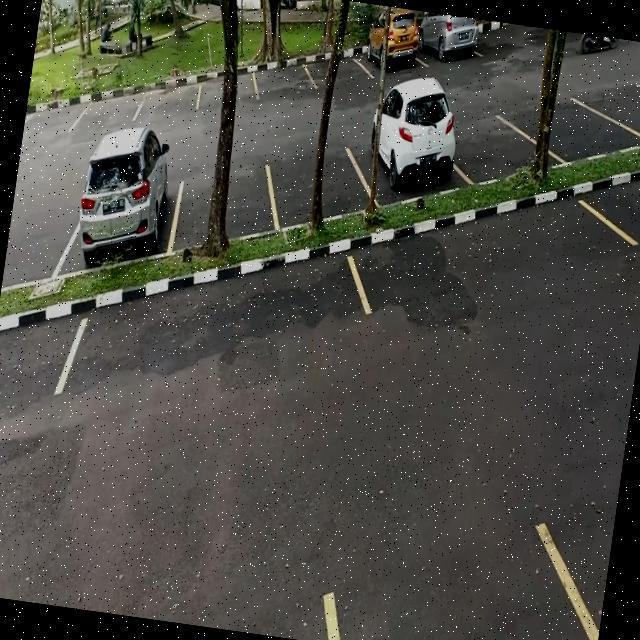empty: (172, 150, 278, 250), (268, 132, 370, 228), (461, 103, 542, 194), (2, 200, 76, 294), (547, 96, 626, 171), (134, 74, 202, 128), (197, 60, 260, 116), (78, 84, 144, 136), (255, 50, 314, 106), (309, 46, 363, 97), (607, 78, 640, 141)
occupied: (69, 153, 186, 275), (358, 90, 471, 212), (358, 16, 423, 82), (416, 12, 484, 74)
